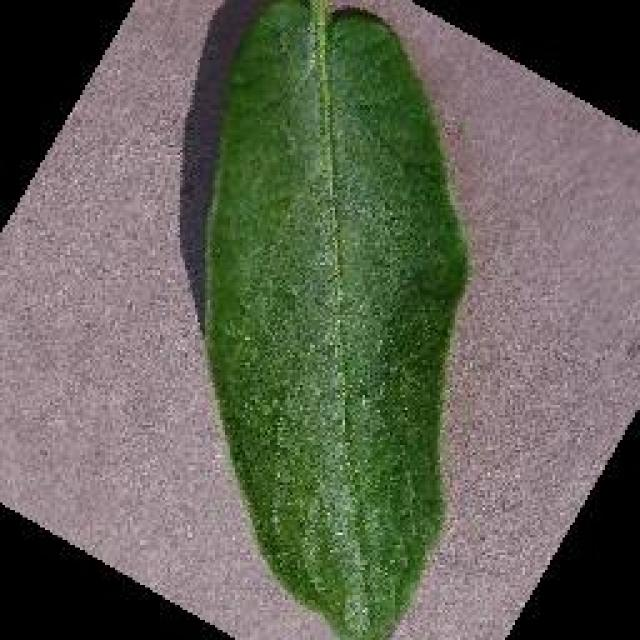Potato___healthy: (200, 0, 474, 638)
